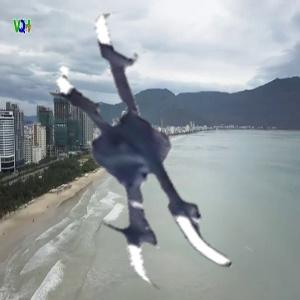drone: (23, 10, 300, 287)
